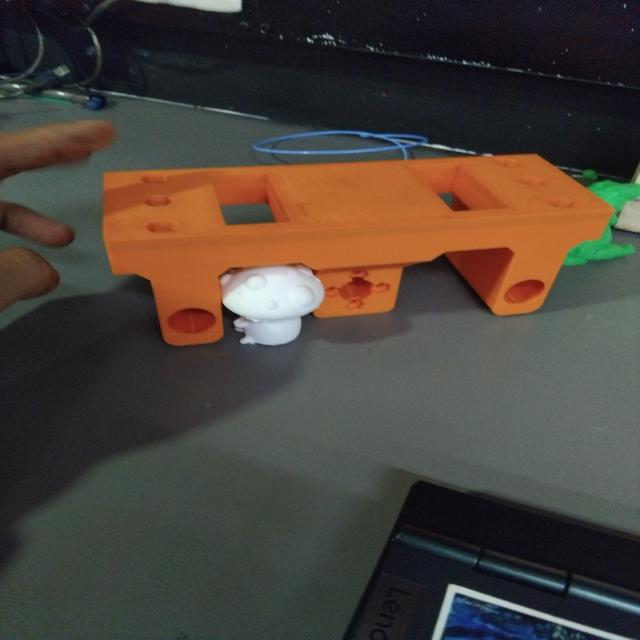Hongo: (210, 255, 335, 358)
